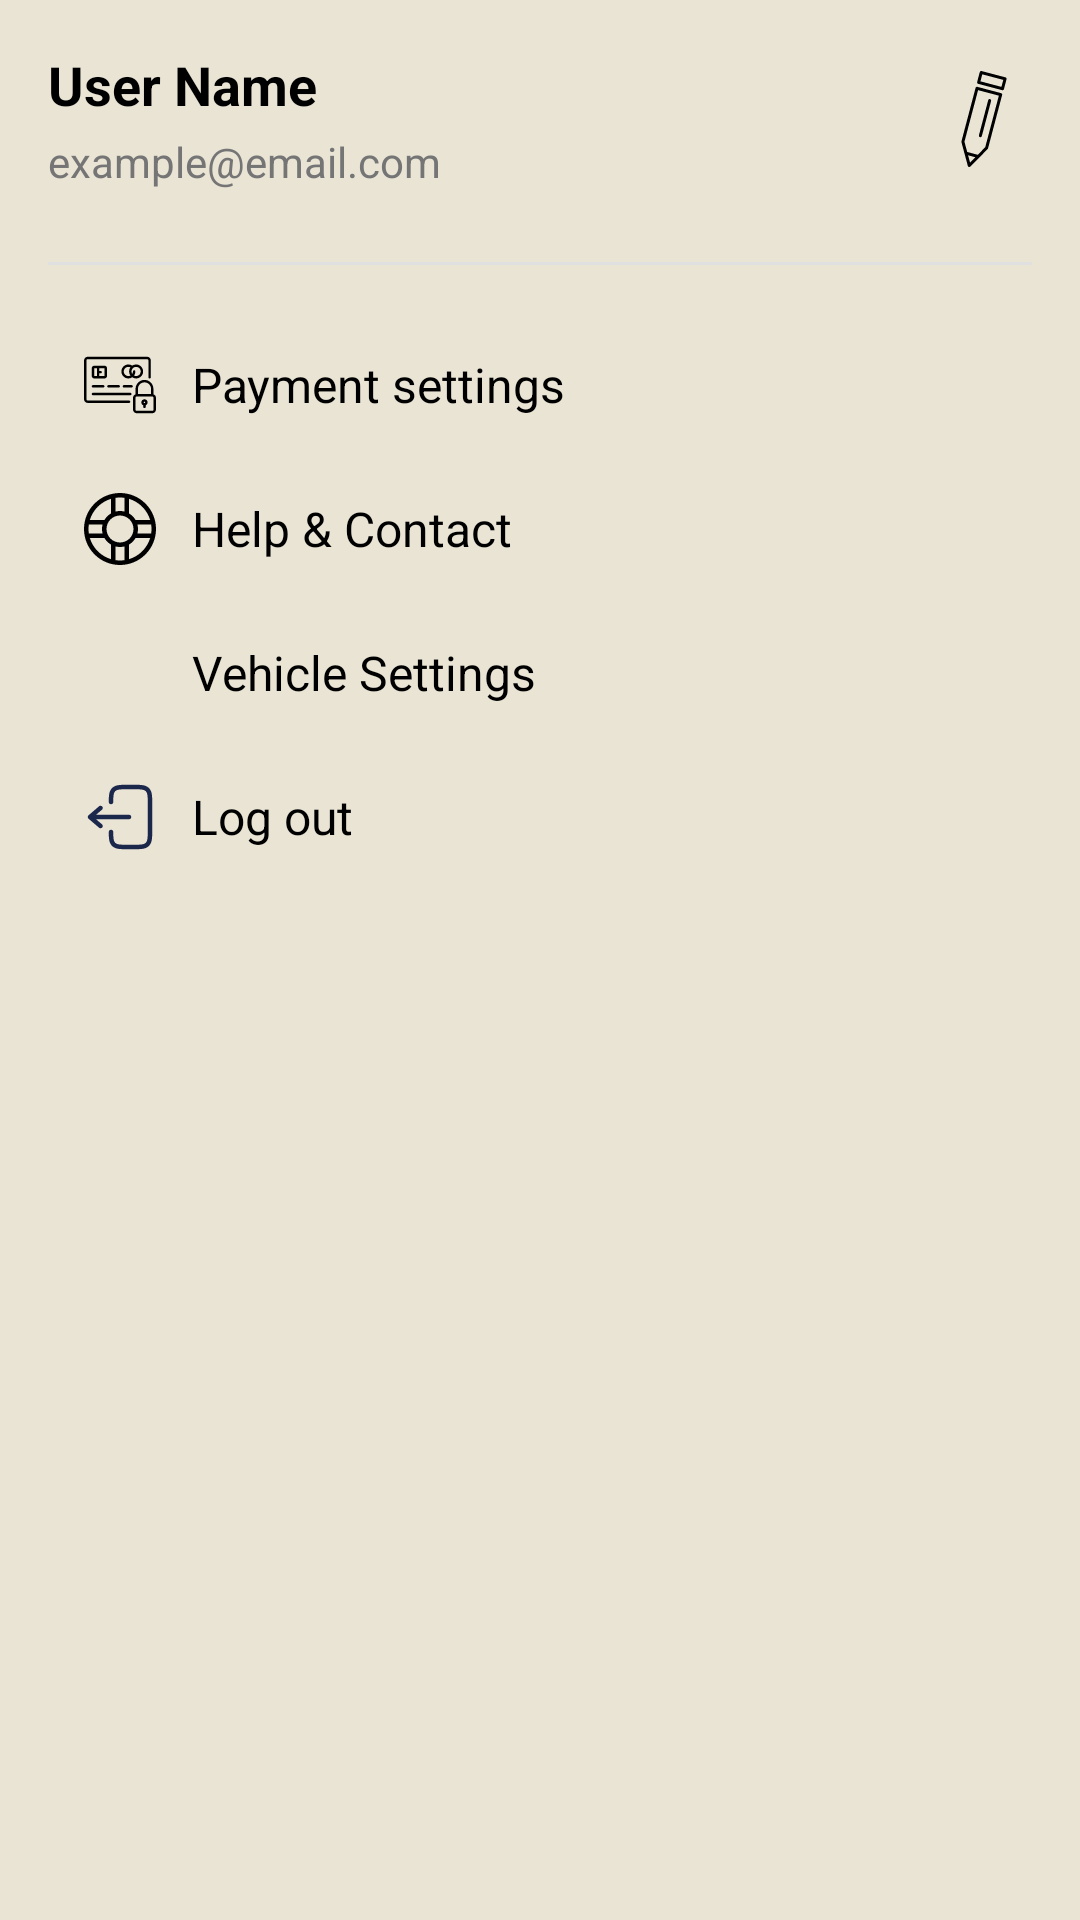

Where icons sit on this 1080×1920 app screen, as region(x1, y1, x2, y2):
Edit profile: region(961, 71, 1007, 167)
